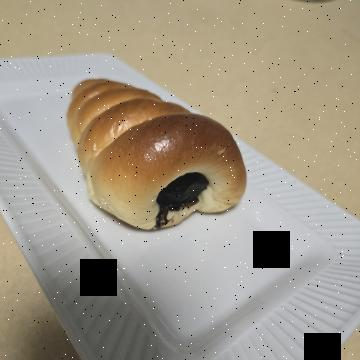cream horn: (64, 92, 238, 292)
